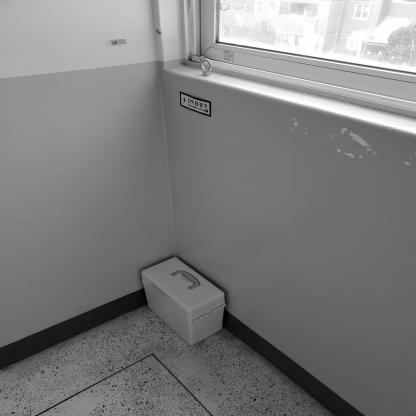DDL: (140, 256, 226, 345)
